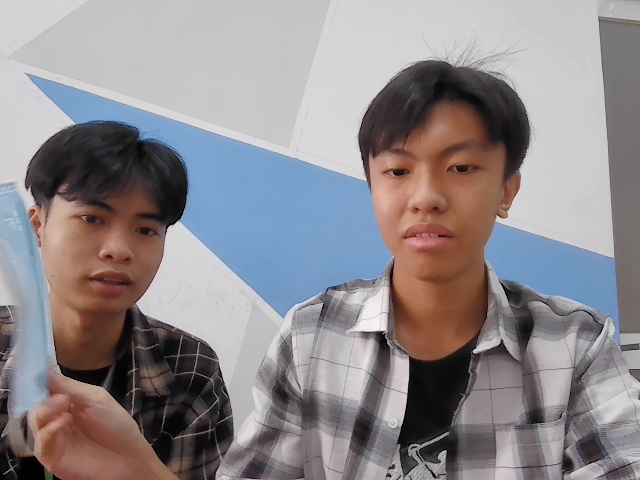human: (360, 41, 536, 279), (29, 113, 198, 303)
